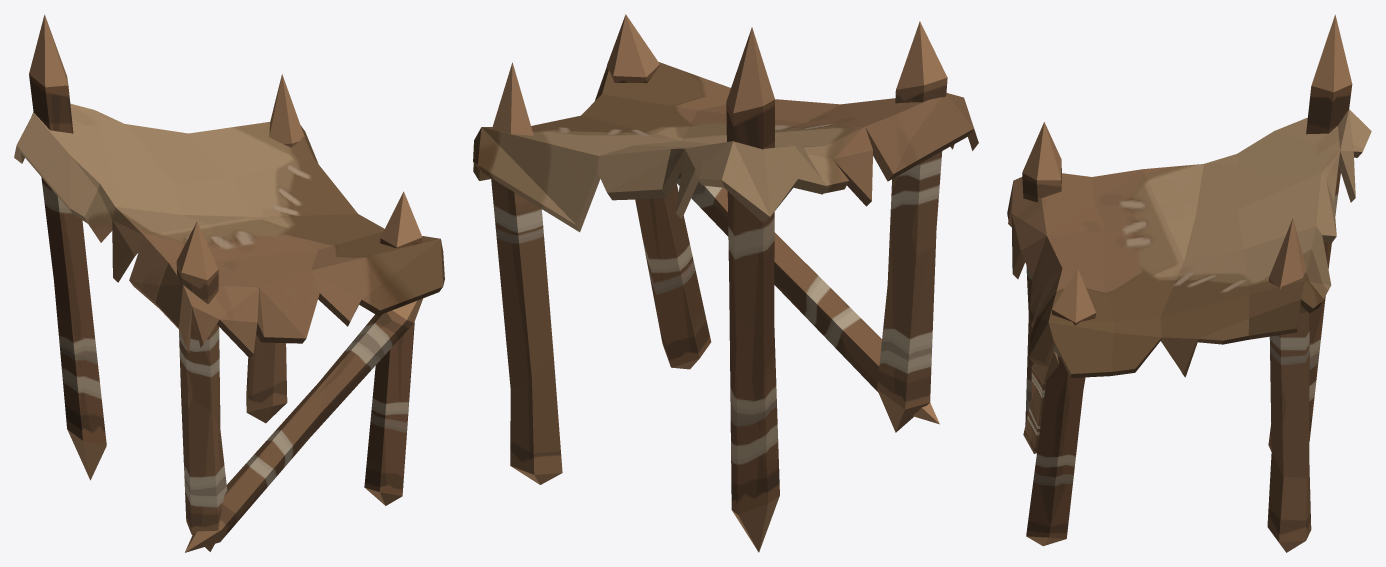
File: bog_tent_c.gltf
The picture shows the model from 3 angles, left to right: view 1: azimuth 30°, elevation 25°; view 2: azimuth 150°, elevation 25°; view 3: azimuth 270°, elevation 25°; orthographic projection. The views are drawn at different scales.
Parts seen in each view (by area): view 1: bog_tent_c; view 2: bog_tent_c; view 3: bog_tent_c.
Part boxes in pixels (bbox=[...]): bog_tent_c: bbox=[14, 14, 444, 552]; bog_tent_c: bbox=[473, 14, 978, 552]; bog_tent_c: bbox=[1007, 14, 1371, 552].
Size of the model in its own units: 3.13 by 4.58 by 3.32.
1 material, 1 textured.
